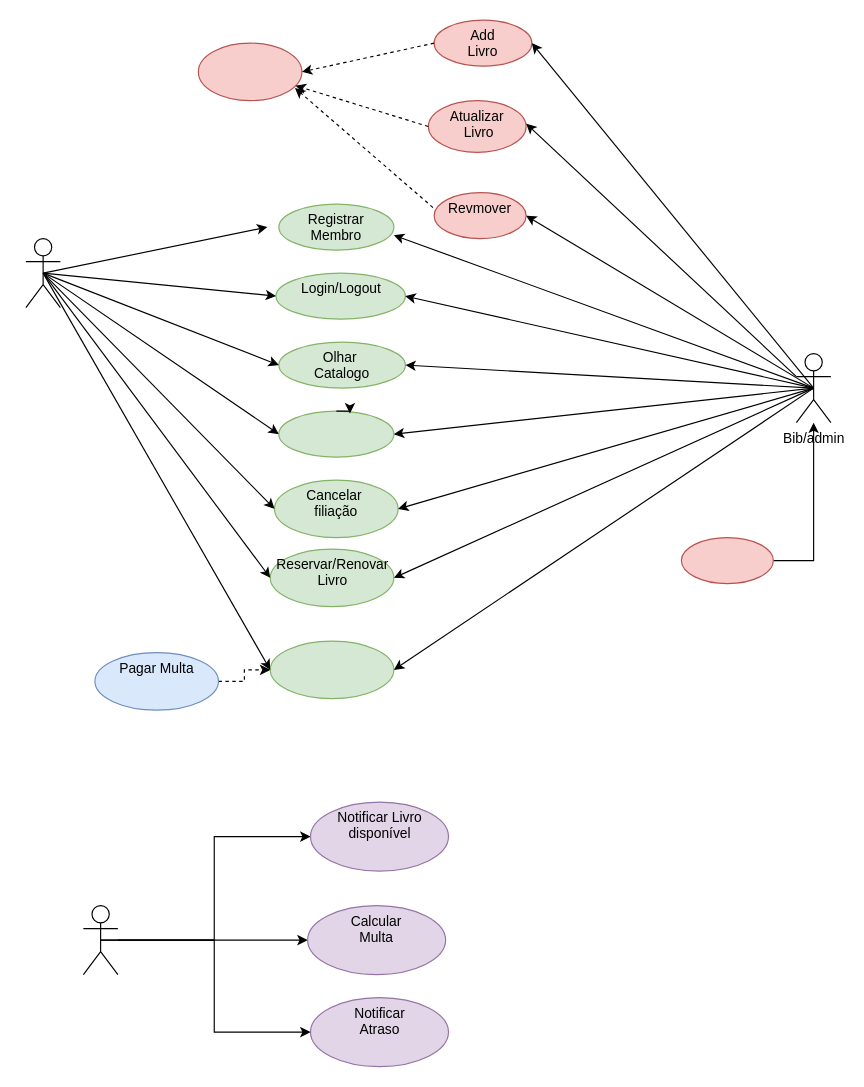
This 864x1087 diagram has some shape labels left out. Here are the shapes that lost their labels. From the top down, the box of each, then its label:
(197, 42, 302, 101): Atulizar Catalogo
(25, 237, 60, 308): Usuário
(278, 410, 394, 457): Procurar livro
(680, 536, 773, 584): Emitir livro
(269, 640, 394, 699): Retornar Livro
(82, 904, 118, 975): Sistema
